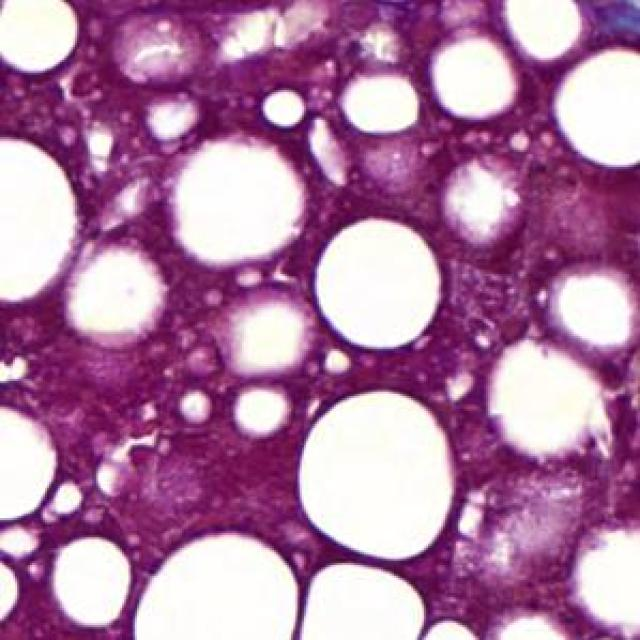steatosis: (298, 388, 460, 568), (135, 531, 300, 640), (319, 218, 445, 356), (552, 47, 640, 167), (56, 535, 130, 627), (0, 0, 79, 77)
